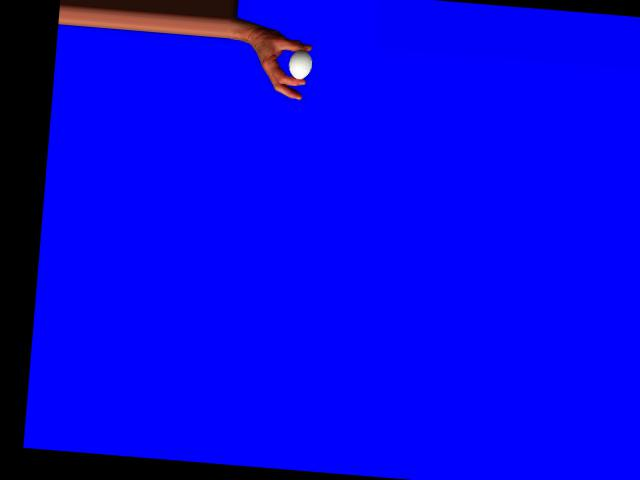egg: (288, 48, 313, 80)
